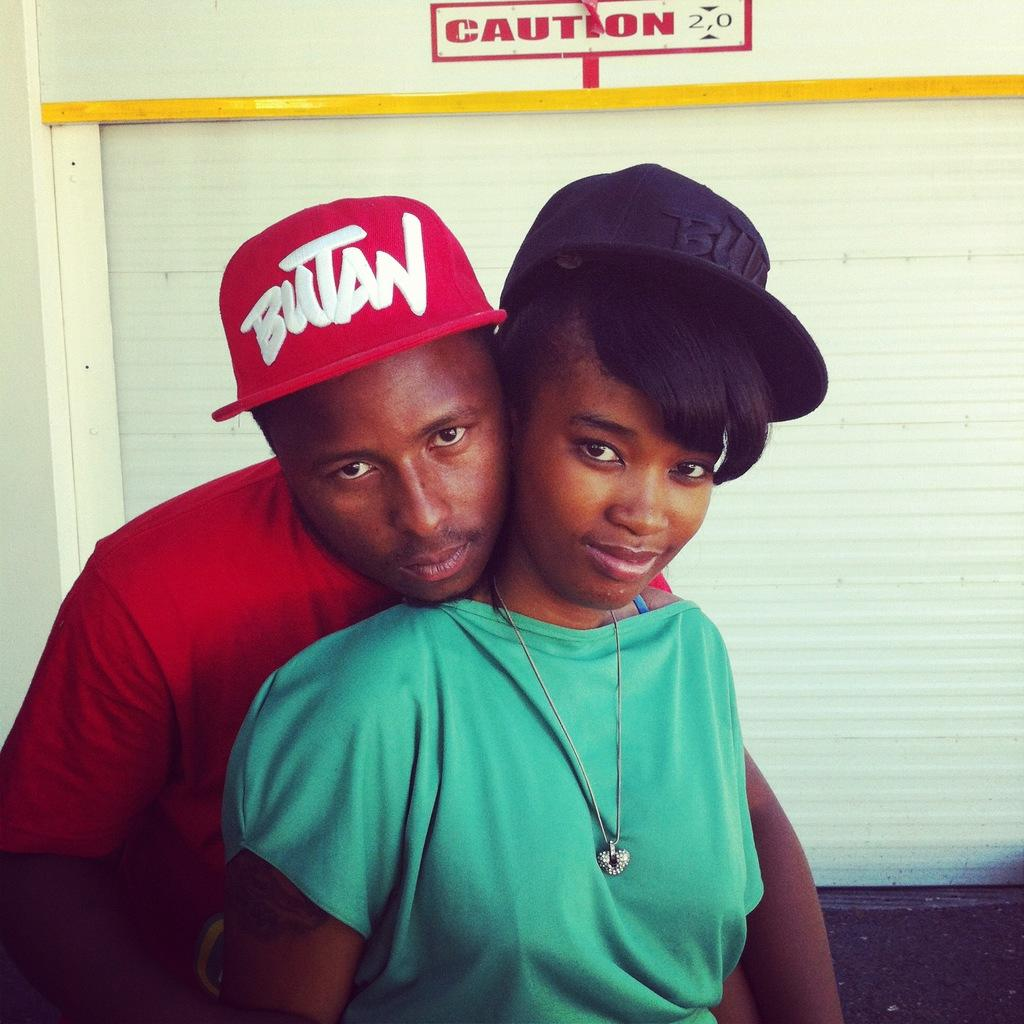Hat: (499, 162, 829, 428), (210, 194, 506, 422)
